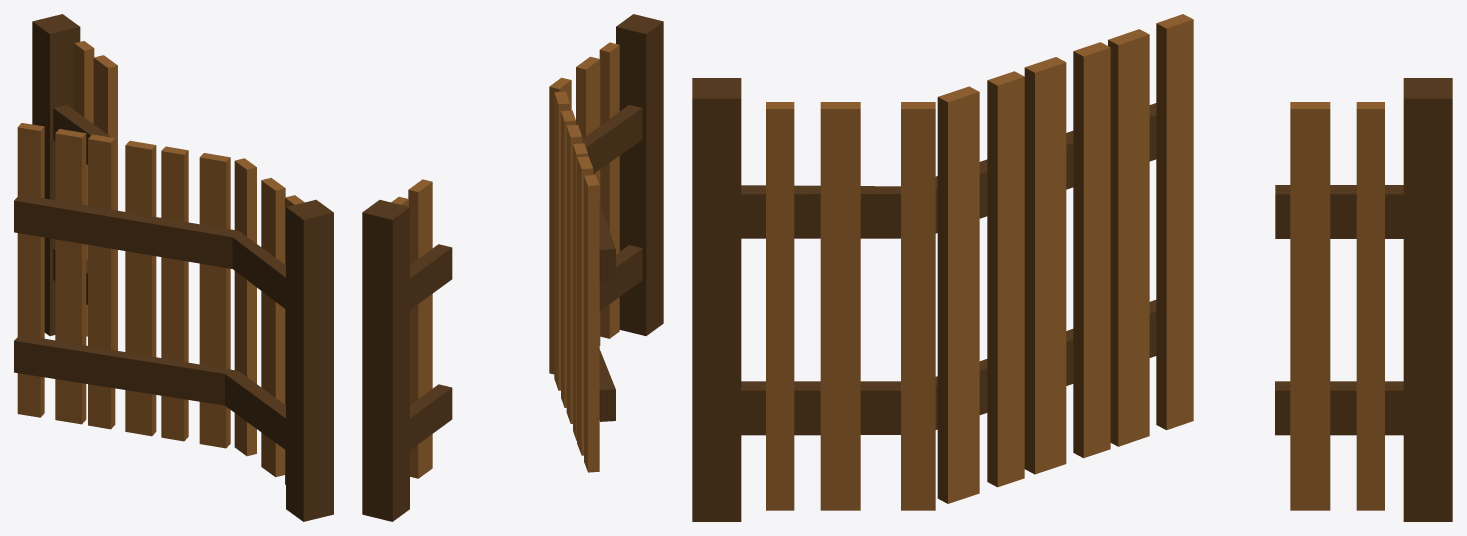
The model's file is Fence_New_4_4.fbx.
3 renders of one model, left to right at view 1: azimuth 30°, elevation 25°; view 2: azimuth 150°, elevation 25°; view 3: azimuth 270°, elevation 25°, orthographic. The views are drawn at different scales.
Visible parts, largest first — view 1: Cube.055, Cube.048; view 2: Cube.048, Cube.055; view 3: Cube.055, Cube.048.
Boxes of the visible parts, left/top/right/bottom form: Cube.055: left=17, top=41, right=304, bottom=484; Cube.048: left=14, top=14, right=333, bottom=521; Cube.048: left=362, top=14, right=663, bottom=521; Cube.055: left=391, top=42, right=619, bottom=478; Cube.055: left=766, top=14, right=1384, bottom=510; Cube.048: left=692, top=78, right=1452, bottom=521.
Bounding box in the file's own units: 122 × 234 × 381.
